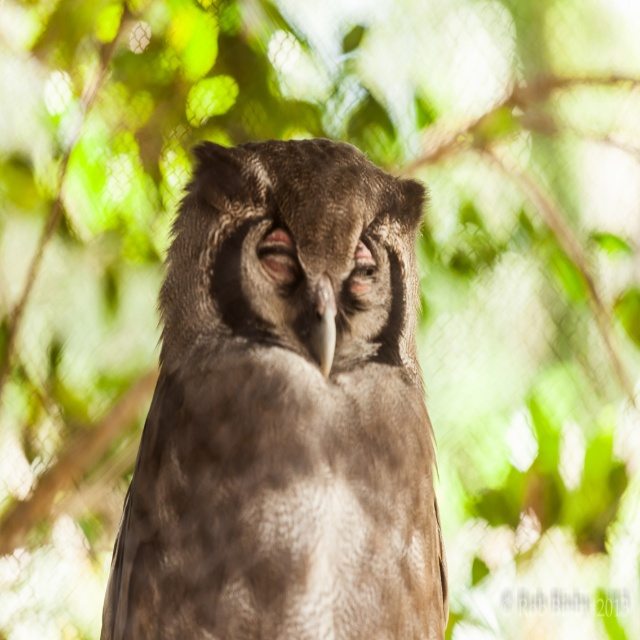Owl: (100, 138, 446, 639)
